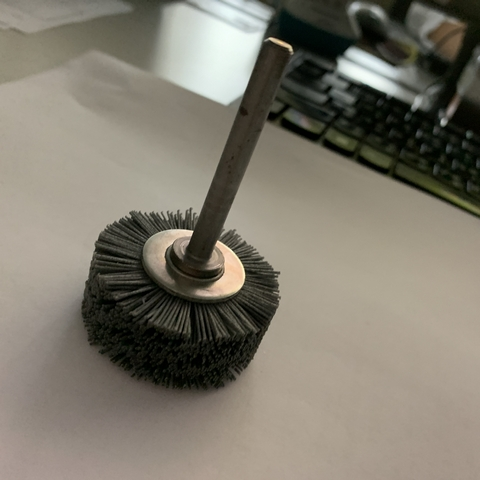Wheel Brush: (90, 37, 305, 399), (77, 115, 308, 402), (65, 72, 264, 394)
